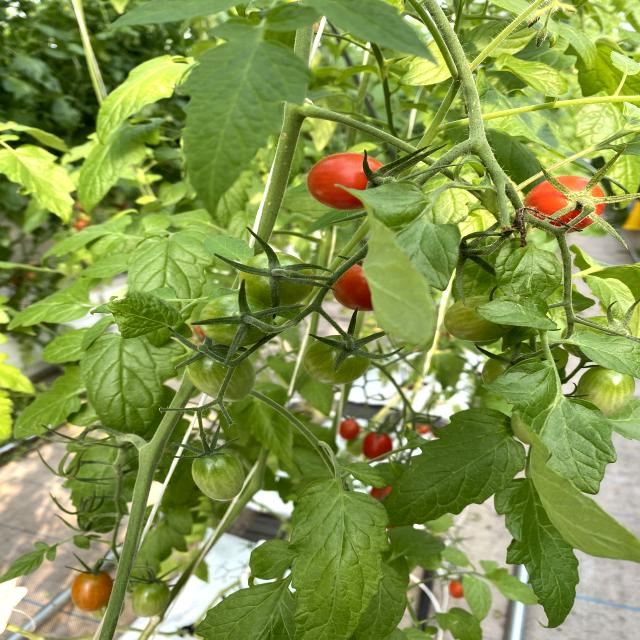ripe0: (184, 347, 256, 401), (199, 295, 271, 344), (302, 335, 370, 386), (192, 451, 246, 501)
ripe2: (526, 175, 606, 231), (306, 152, 381, 211), (334, 257, 375, 311)
